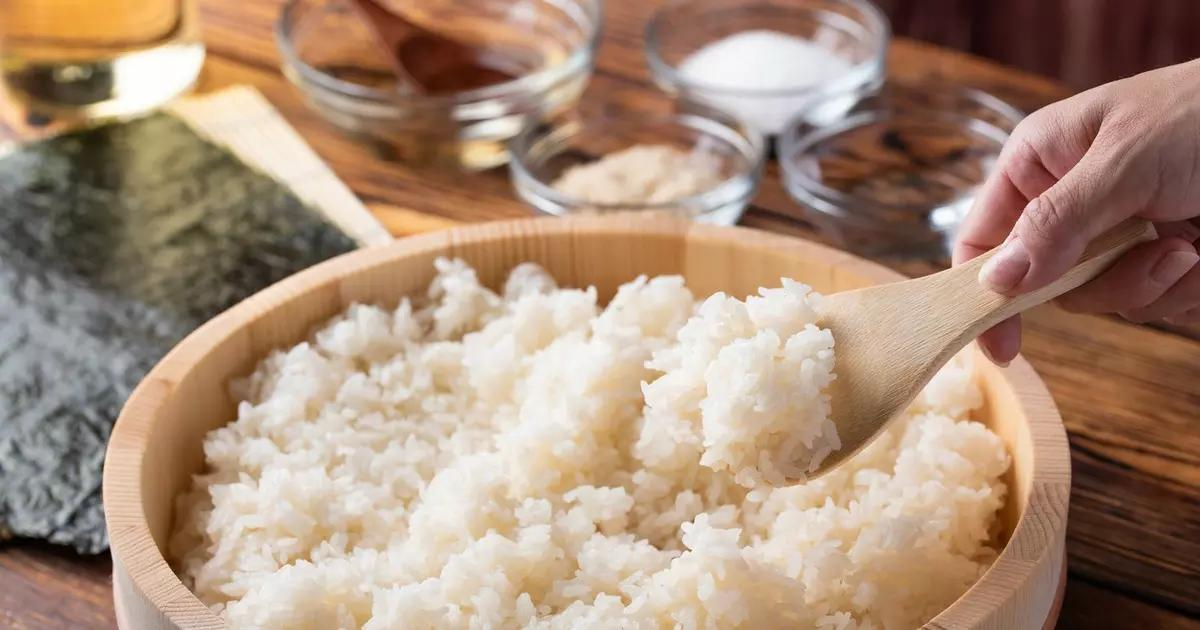rice: (191, 265, 1020, 630)
